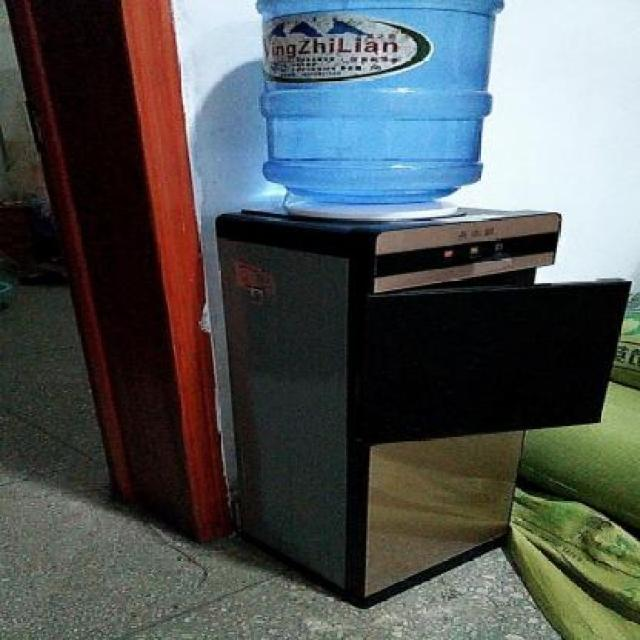cooler: (210, 0, 572, 608)
